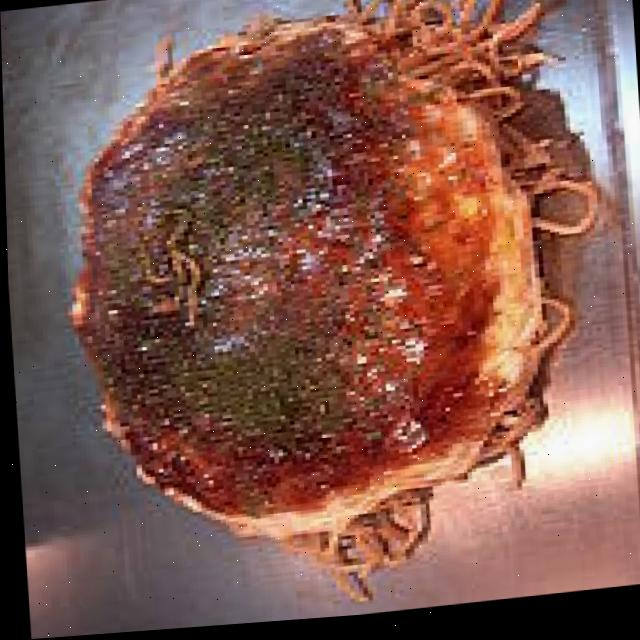蛋糕甜品: (36, 0, 574, 594)
